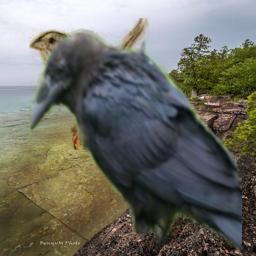Crow: (28, 28, 242, 251)
Sparrow: (29, 18, 149, 150)
